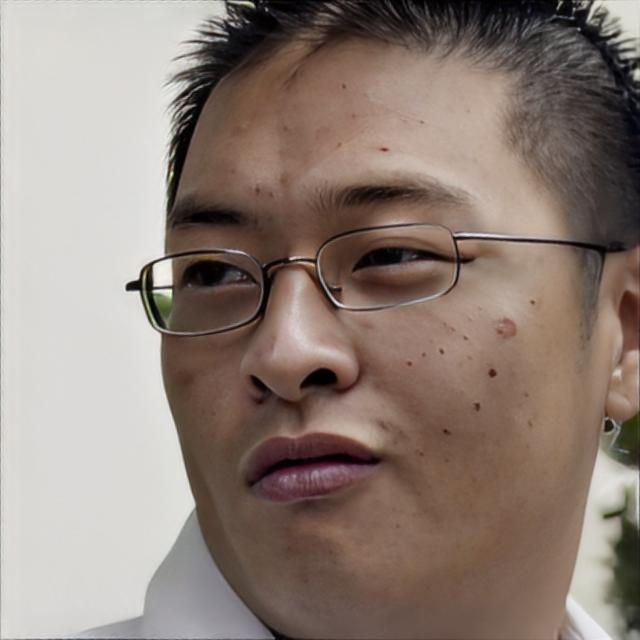content: (158, 17, 594, 640)
